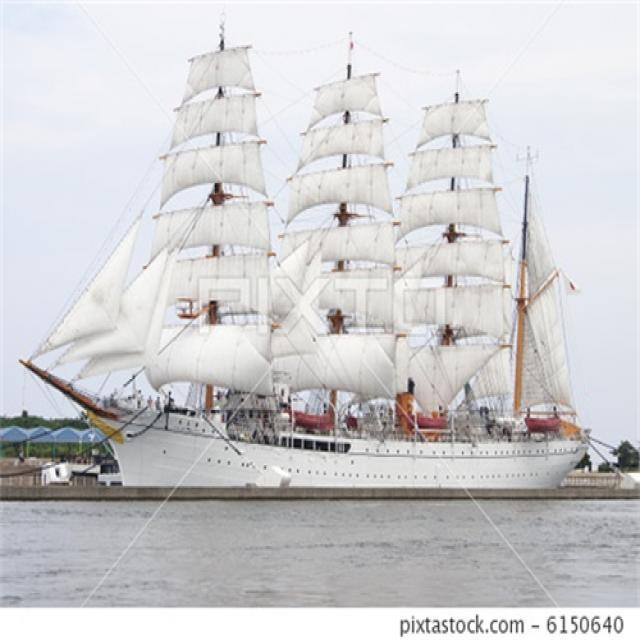Ship: (33, 39, 593, 506)
